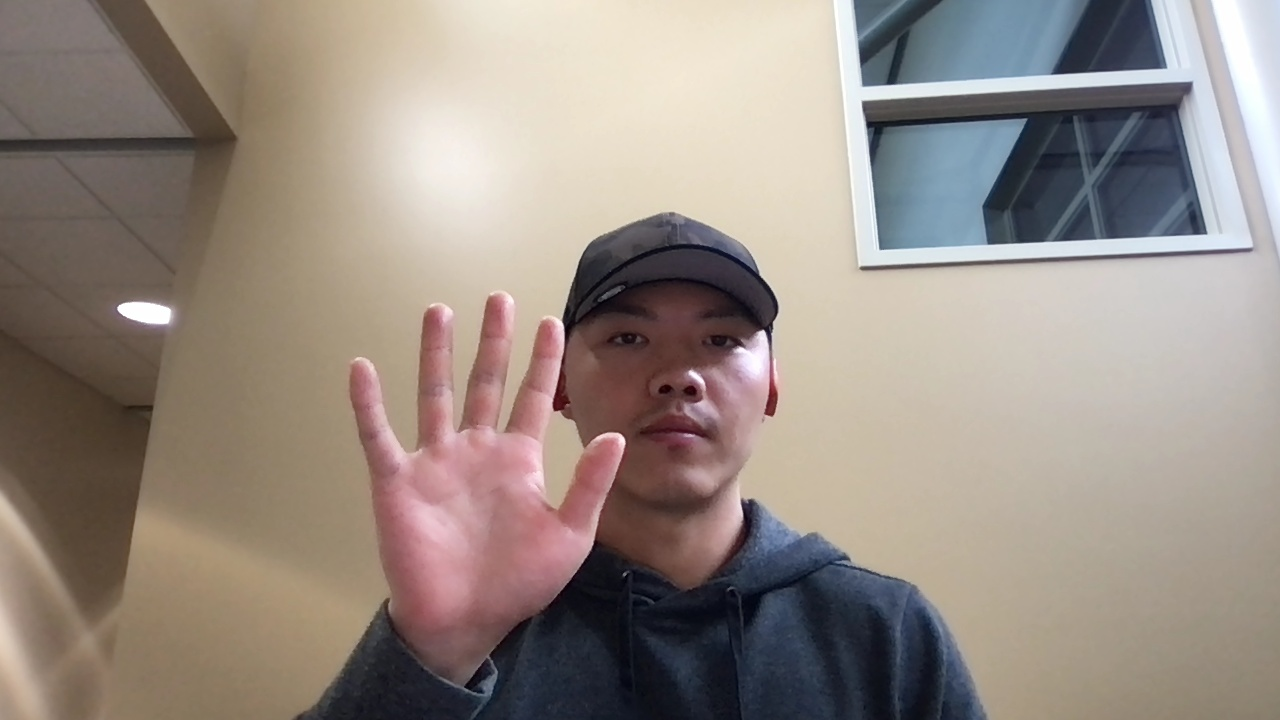Hello: (346, 289, 629, 643)
